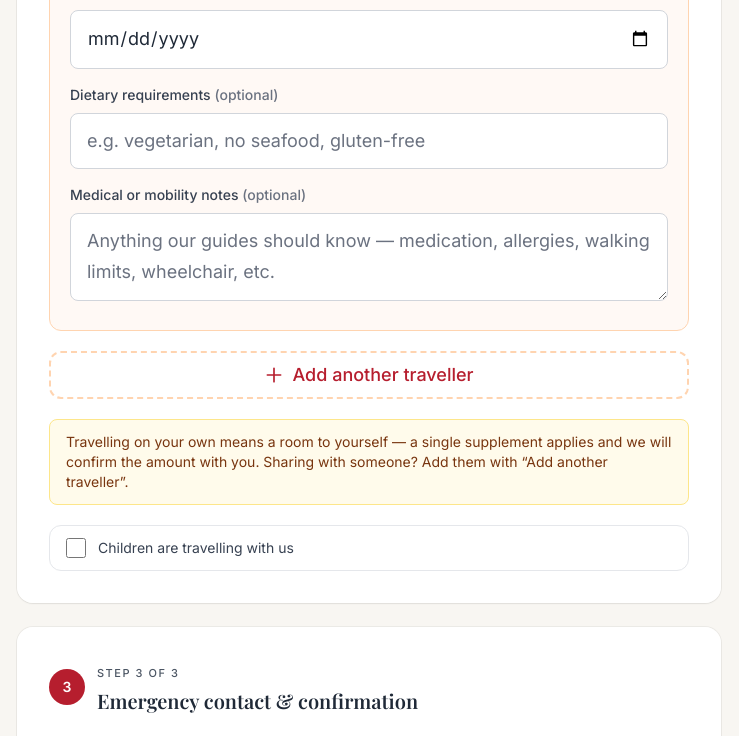
single supplement › shows the tour single supplement when a traveller is alone in a room
The width and height of the screenshot is (739, 736).
(page scrolled)
Click the button "Add another traveller" at (369, 375), box [49,351,689,399]
(page scrolled)
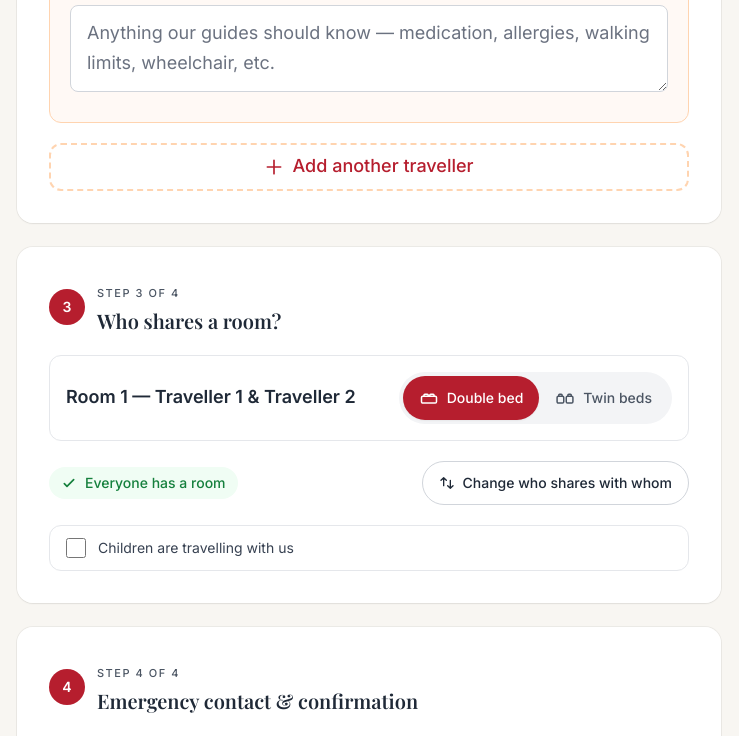
Click the button "Add another traveller" at (369, 167), box [49,143,689,191]
(page scrolled)
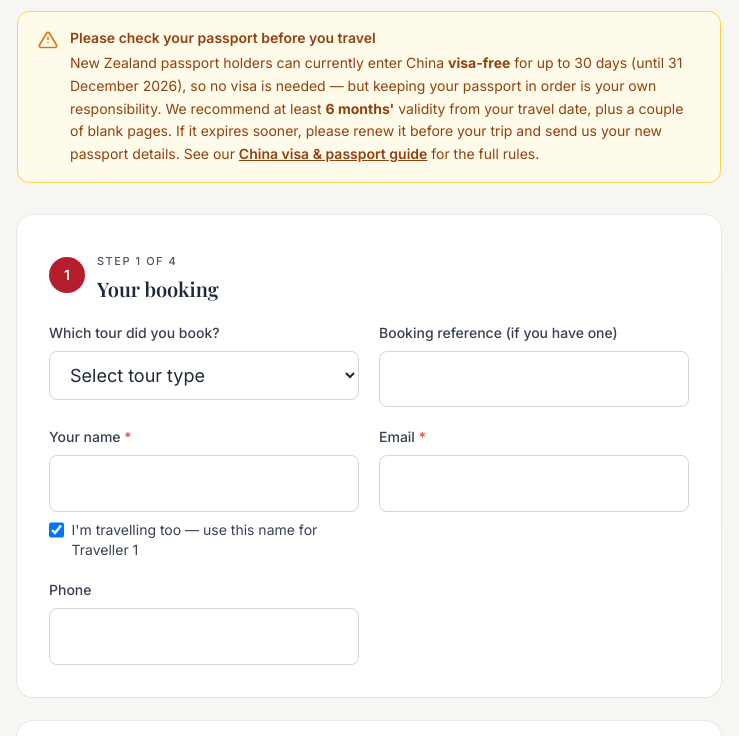
Select "China Discovery" in the dropdown labelled "Which tour did you book?" at (204, 375), box [49,351,359,400]
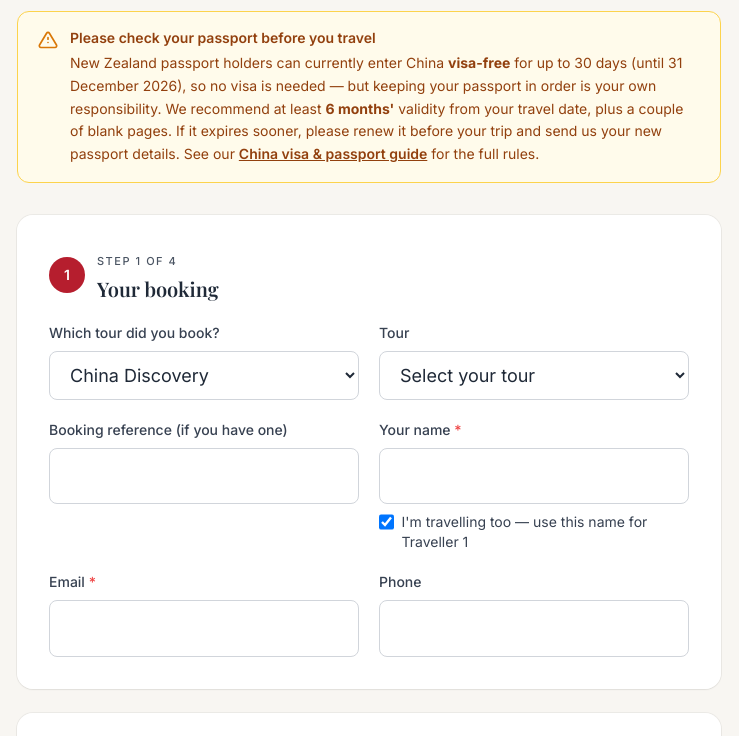
Select "Best of China" in the dropdown labelled "Tour" at (534, 375), box [379,351,689,400]
(page scrolled)
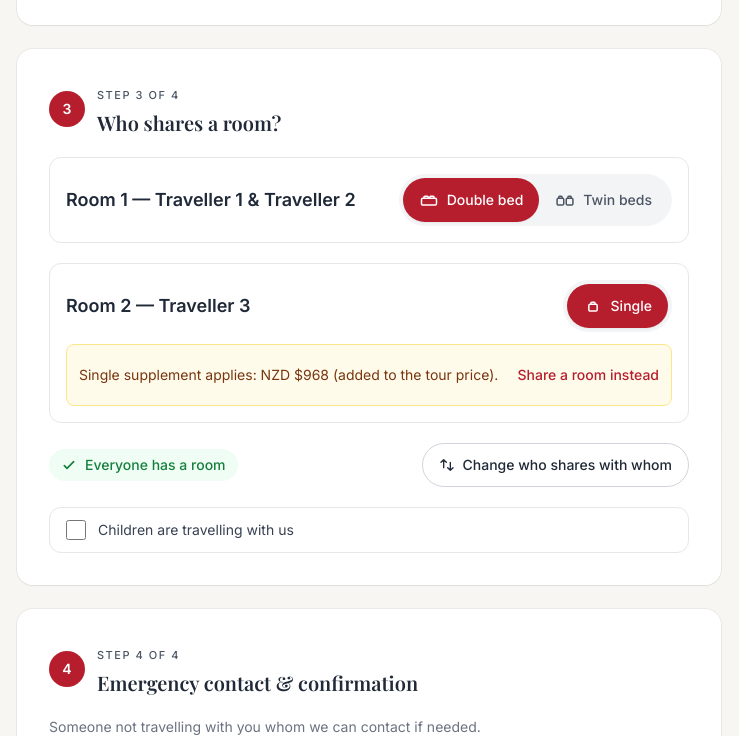
Expected: the text "Single supplement applies: NZD $968" is shown, [79,366,498,383]
